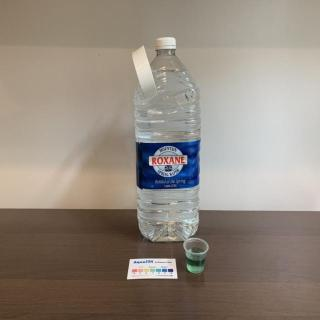Plastic-bottle: (127, 35, 201, 243)
